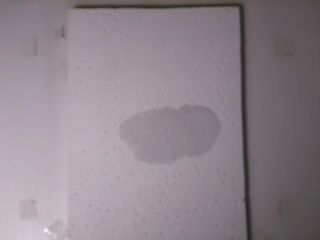Water_detected: (134, 104, 212, 163)
